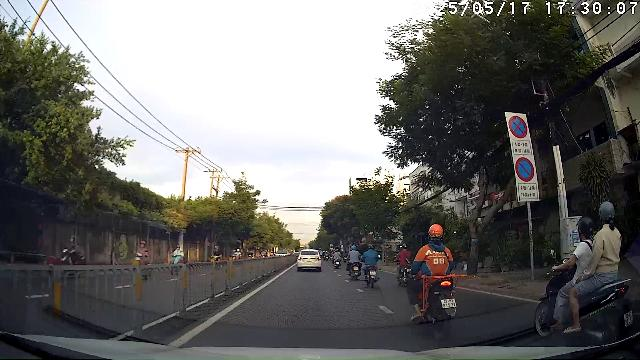130-cam-dung-va-do-xe: (508, 115, 528, 139)
131a-cam-do-xe: (516, 158, 534, 182)
